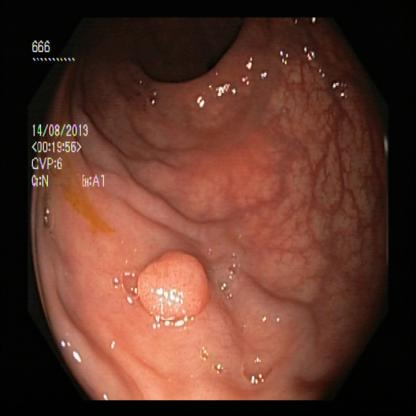Labels: (29, 34, 105, 194)
Polyps: (124, 248, 229, 335)
